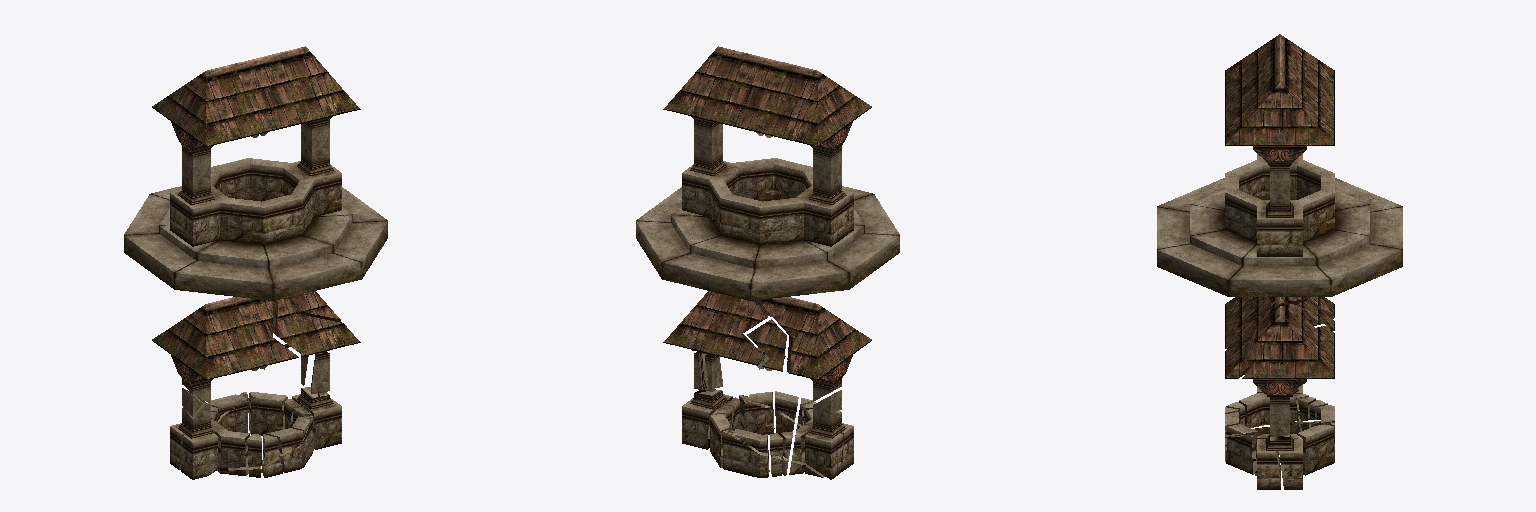
3 renders of one model, left to right at view 1: azimuth 30°, elevation 25°; view 2: azimuth 150°, elevation 25°; view 3: azimuth 270°, elevation 25°, orthographic.
Parts seen in each view (by area): view 1: material_1, material_2; view 2: material_1, material_2; view 3: material_1, material_2.
Boxes of the visible parts, <box> form: material_1: <box>124,116,387,479</box>; material_2: <box>152,46,360,382</box>; material_1: <box>636,116,899,479</box>; material_2: <box>663,46,871,382</box>; material_1: <box>1157,154,1402,489</box>; material_2: <box>1225,34,1334,394</box>.
Size of the model in its own units: 288 by 508 by 288.
3 materials, 3 textured.